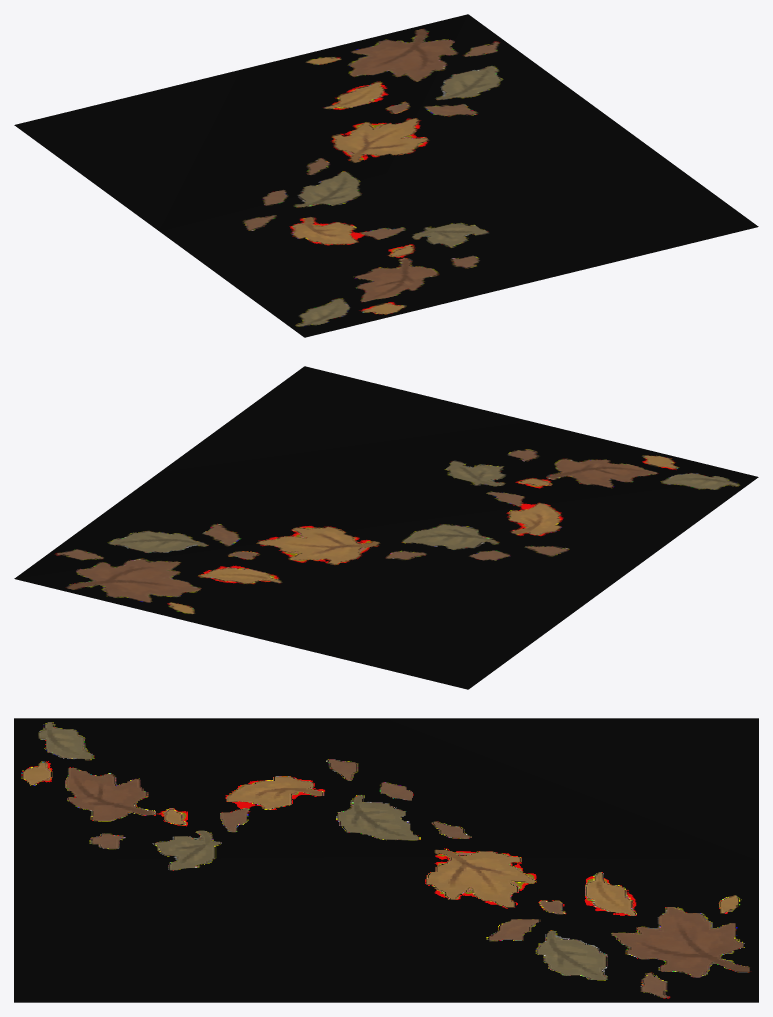
The model's file is SM_D12_LeavesTrail.fbx.
The picture shows the model from 3 angles, top to bottom: view 1: azimuth 30°, elevation 25°; view 2: azimuth 150°, elevation 25°; view 3: azimuth 270°, elevation 25°; orthographic projection. The views are drawn at different scales.
Visible parts, largest first — view 1: D12_Decal; view 2: D12_Decal; view 3: D12_Decal.
Boxes of the visible parts, x1=… form: D12_Decal: x1=14, y1=14, x2=758, y2=337; D12_Decal: x1=14, y1=366, x2=758, y2=689; D12_Decal: x1=14, y1=718, x2=758, y2=1002.
Size of the model in its own units: 1.35 by 0.008 by 1.5.
